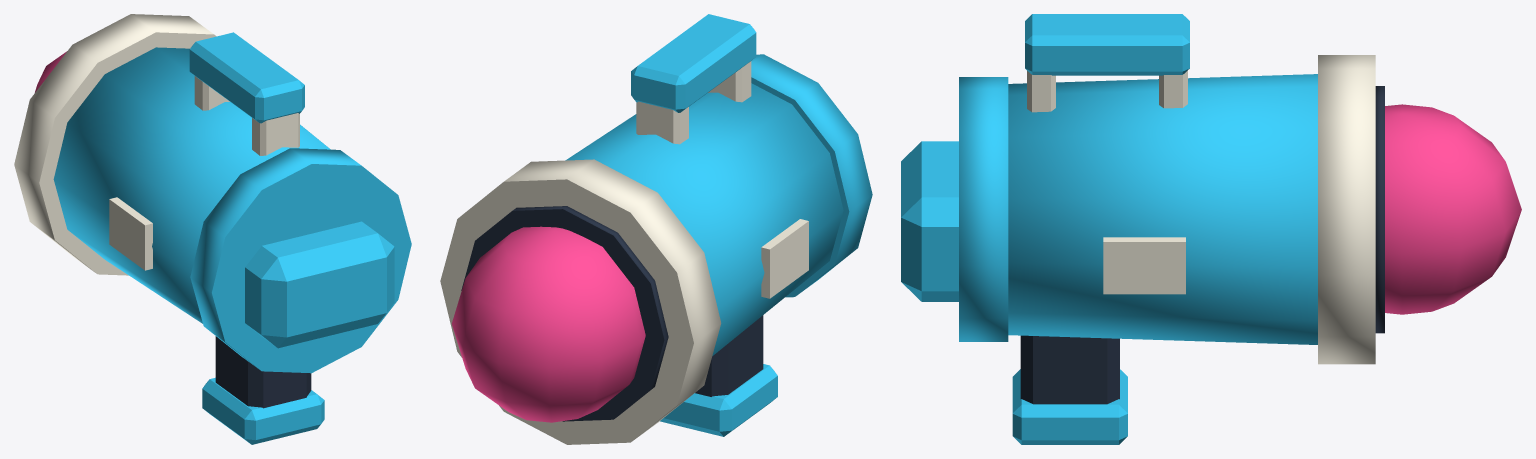
Rendered from fps_w_lob.glb.
3 views of the same model, side by side, from view 1: azimuth 30°, elevation 25°; view 2: azimuth 150°, elevation 25°; view 3: azimuth 270°, elevation 25° (orthographic). The views are drawn at different scales.
Parts seen in each view (by area): view 1: detail_Pool blue, detail_Vanilla plastic, grip; view 2: detail_Pool blue, detail_Vanilla plastic, muzzle_tip, Dark muzzle well, grip; view 3: detail_Pool blue, detail_Vanilla plastic, muzzle_tip, grip, Dark muzzle well.
Boxes of the visible parts, x1,y1,x2,y2 form: detail_Pool blue: (53, 32, 411, 444); detail_Vanilla plastic: (14, 14, 299, 275); grip: (215, 336, 311, 408); detail_Pool blue: (565, 14, 872, 436); detail_Vanilla plastic: (440, 61, 808, 444); muzzle_tip: (451, 226, 645, 422); Dark muzzle well: (461, 206, 668, 421); grip: (695, 315, 763, 396); detail_Pool blue: (901, 14, 1317, 444); detail_Vanilla plastic: (1027, 55, 1375, 364); muzzle_tip: (1385, 104, 1521, 314); grip: (1020, 335, 1119, 404); Dark muzzle well: (1375, 86, 1384, 333).
Size of the model in its own units: 0.35 by 0.5 by 0.7.
